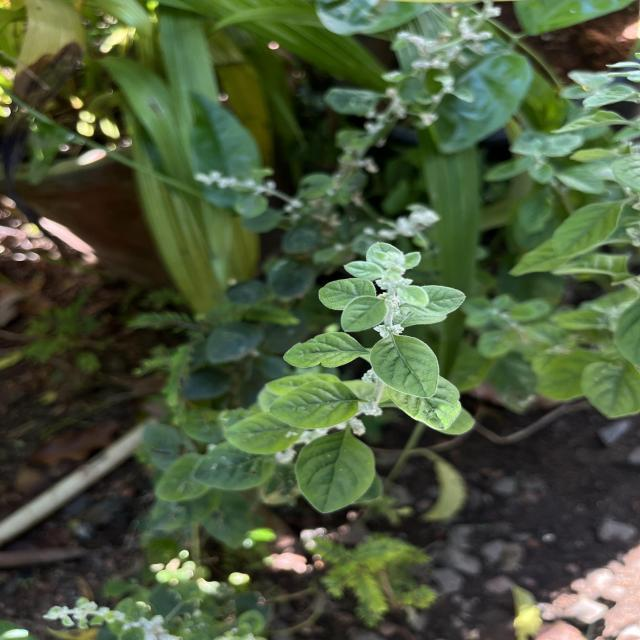Aerva lanata: (368, 335, 441, 399), (282, 328, 364, 369), (316, 276, 378, 313)
